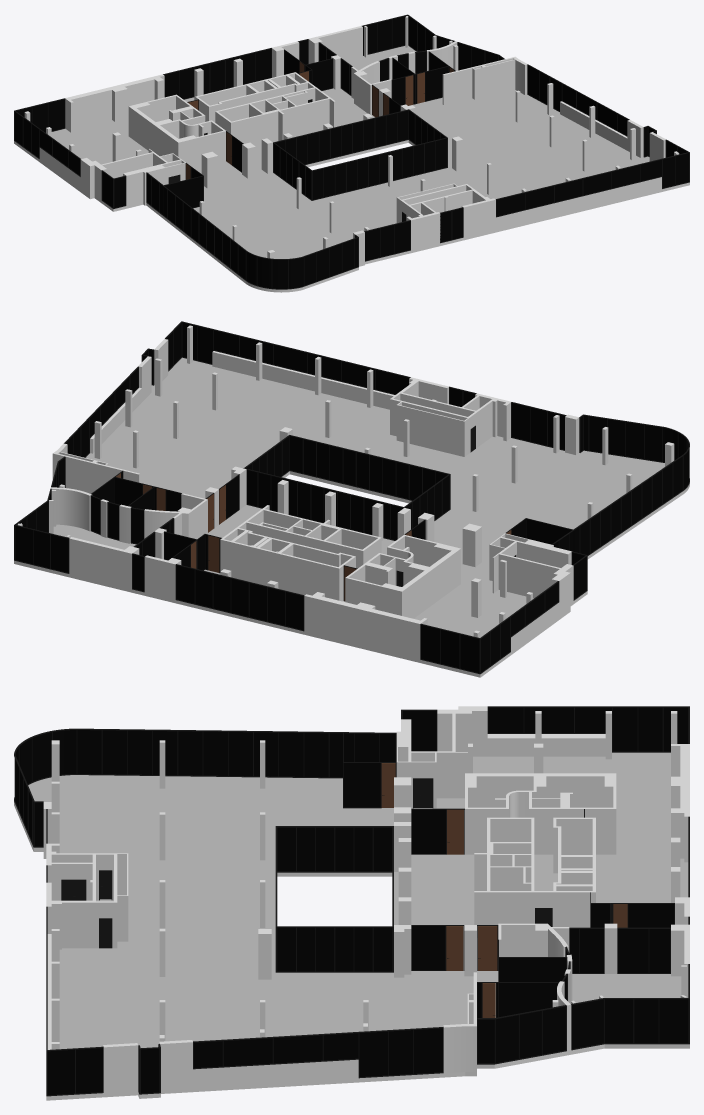
File: floorplans.gltf
3 views of the same model, one above another, from view 1: azimuth 30°, elevation 25°; view 2: azimuth 150°, elevation 25°; view 3: azimuth 270°, elevation 25° (orthographic). The views are drawn at different scales.
Parts seen in each view (by area): view 1: Walls_001, Windows_glass_001, Slab_001, Windows_frame_001, Glazed_partitions_glass_001, Windows_frame_002.001, Glazed_partitions_doors_001, Glazed_partitions_frame_001, Windows_frame_002, Windows_glass_002; view 2: Walls_001, Slab_001, Windows_glass_001, Windows_frame_001, Glazed_partitions_glass_001, Windows_frame_002.001, Windows_frame_002, Glazed_partitions_doors_001, Glazed_partitions_frame_001, Windows_glass_002; view 3: Slab_001, Walls_001, Windows_glass_001, Glazed_partitions_glass_001, Windows_frame_001, Glazed_partitions_doors_001, Windows_frame_002.001, Glazed_partitions_frame_001, Windows_frame_002, Door_005.
Boxes of the visible parts, x1,y1,x2,y2 form: Walls_001: [24, 16, 679, 263]; Windows_glass_001: [15, 16, 688, 288]; Slab_001: [14, 46, 689, 292]; Windows_frame_001: [14, 14, 689, 289]; Glazed_partitions_glass_001: [162, 51, 454, 214]; Windows_frame_002.001: [22, 19, 677, 288]; Glazed_partitions_doors_001: [186, 62, 453, 179]; Glazed_partitions_frame_001: [164, 49, 455, 208]; Windows_frame_002: [14, 15, 687, 259]; Windows_glass_002: [380, 51, 426, 81]; Walls_001: [17, 325, 674, 659]; Slab_001: [14, 357, 689, 677]; Windows_glass_001: [15, 322, 688, 672]; Windows_frame_001: [14, 321, 689, 674]; Glazed_partitions_glass_001: [92, 472, 574, 572]; Windows_frame_002.001: [26, 326, 689, 668]; Windows_frame_002: [15, 322, 689, 638]; Glazed_partitions_doors_001: [116, 473, 511, 601]; Glazed_partitions_frame_001: [91, 470, 572, 600]; Windows_glass_002: [91, 496, 143, 543]; Slab_001: [14, 752, 689, 1100]; Walls_001: [43, 706, 689, 1092]; Windows_glass_001: [15, 707, 688, 1095]; Glazed_partitions_glass_001: [343, 763, 674, 1017]; Windows_frame_001: [14, 706, 689, 1096]; Glazed_partitions_doors_001: [381, 763, 627, 1017]; Windows_frame_002.001: [14, 707, 663, 1093]; Glazed_partitions_frame_001: [343, 732, 674, 1017]; Windows_frame_002: [14, 706, 689, 1050]; Door_005: [413, 778, 433, 808].
Bounding box in the file's own units: 51.68 × 3.5 × 42.87.
